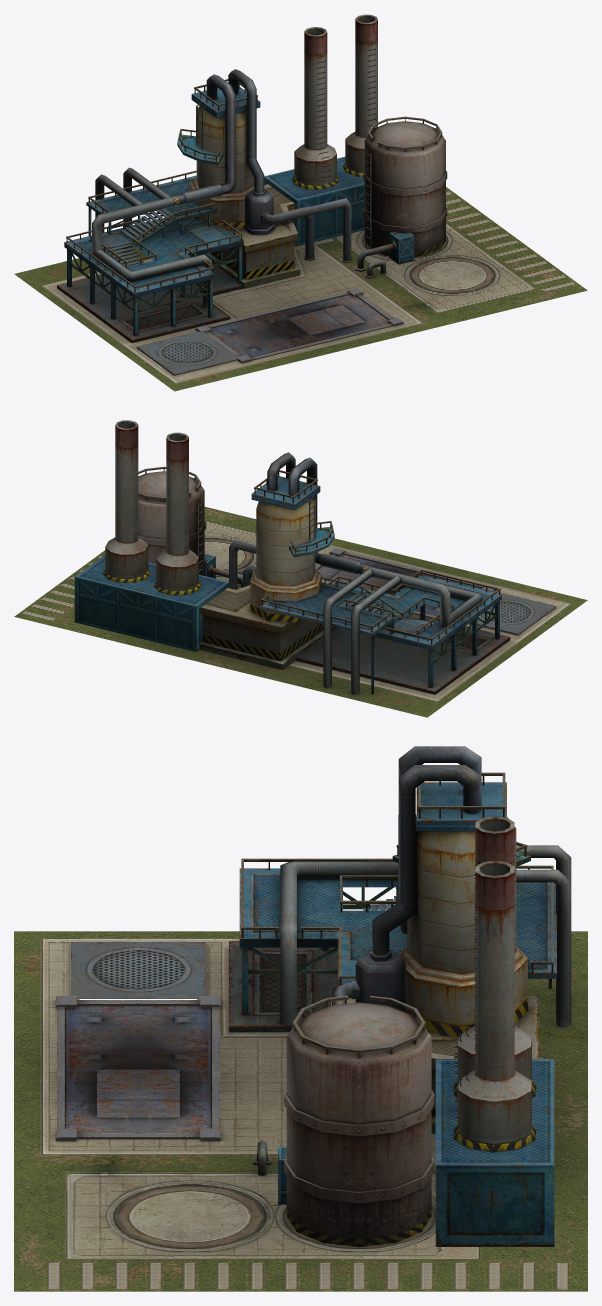
File: Dhz_OilRefinery_02.FBX
The picture shows the model from 3 angles, top to bottom: view 1: azimuth 30°, elevation 25°; view 2: azimuth 150°, elevation 25°; view 3: azimuth 270°, elevation 25°; orthographic projection. The views are drawn at different scales.
Visible parts, largest first — view 1: Dhz_Refinery_02; view 2: Dhz_Refinery_02; view 3: Dhz_Refinery_02.
Part boxes in pixels (x1,y1,x2,y2): Dhz_Refinery_02: [14, 14, 587, 391]; Dhz_Refinery_02: [14, 420, 587, 717]; Dhz_Refinery_02: [14, 746, 587, 1291].
Bounding box in the file's own units: 184 × 83.26 × 124.
